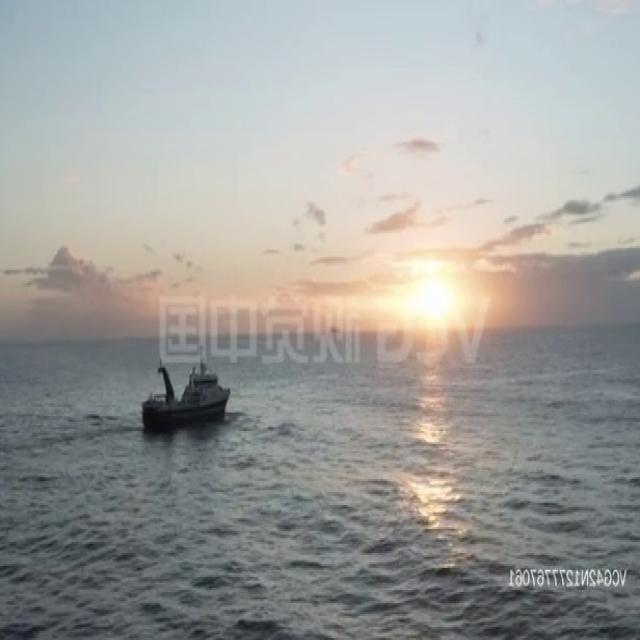houseboat: (142, 355, 230, 431)
